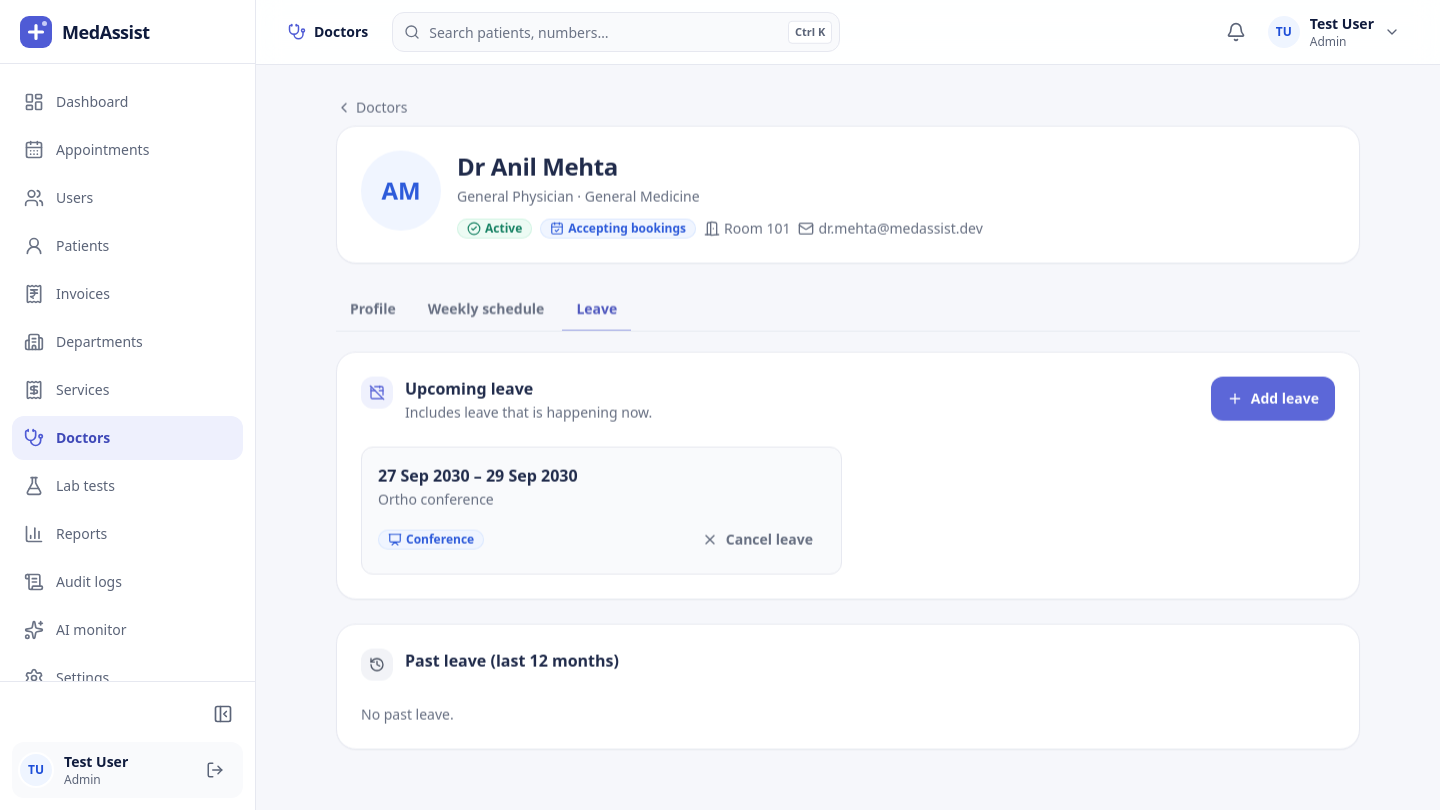
Test case: Doctor detail (admin) › leave tab lists upcoming leave and cancels with confirmation
Expected: the text "27 Sep 2030 – 29 Sep 2030" is shown, [378,464,578,486]
Expected: the text "Conference" is shown, [378,529,484,549]
Click the button with aria-label "Cancel leave 27 Sep 2030 – 29 Sep 2030": (757, 539) [690,521,825,557]
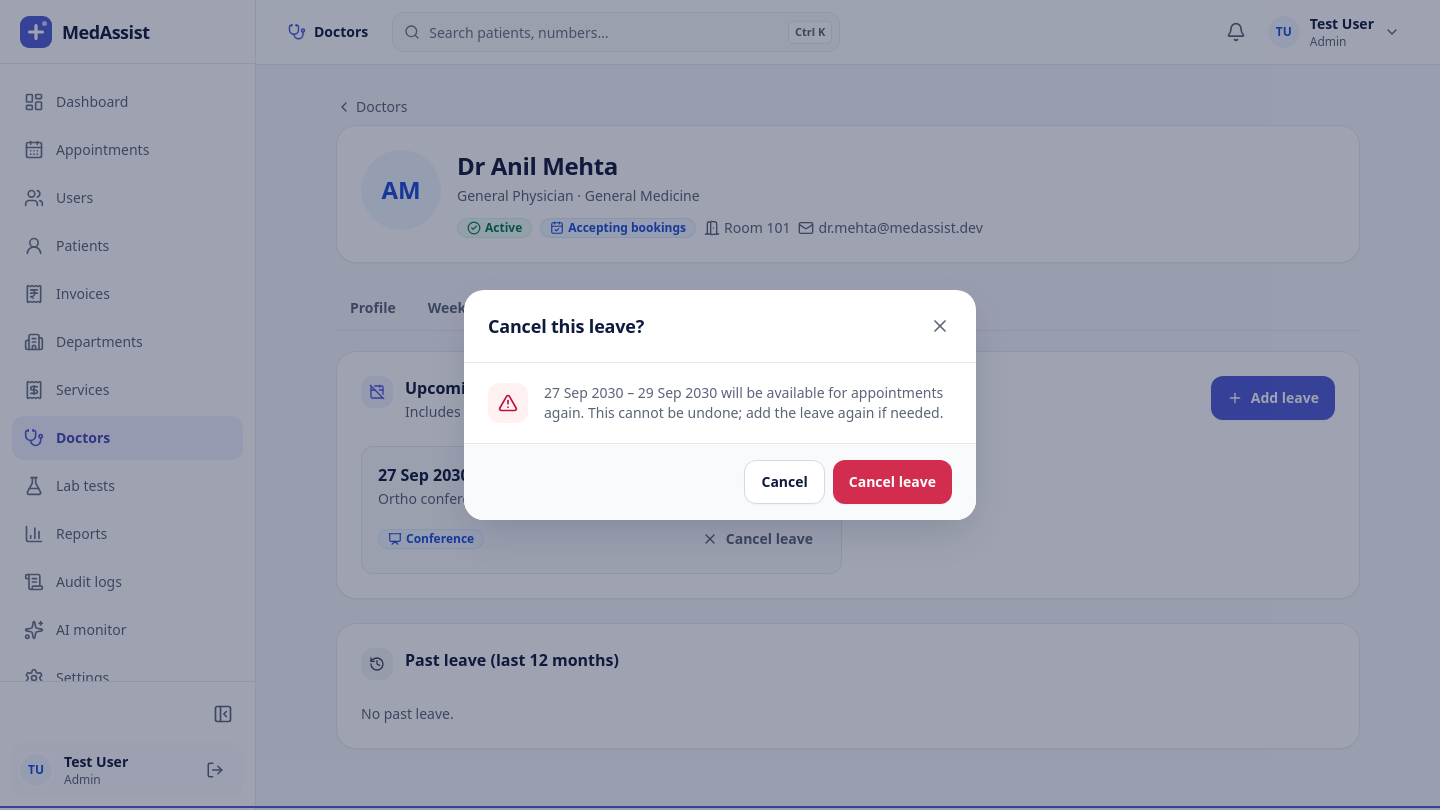
Click the button "Cancel leave": (892, 482) [833,460,952,504]
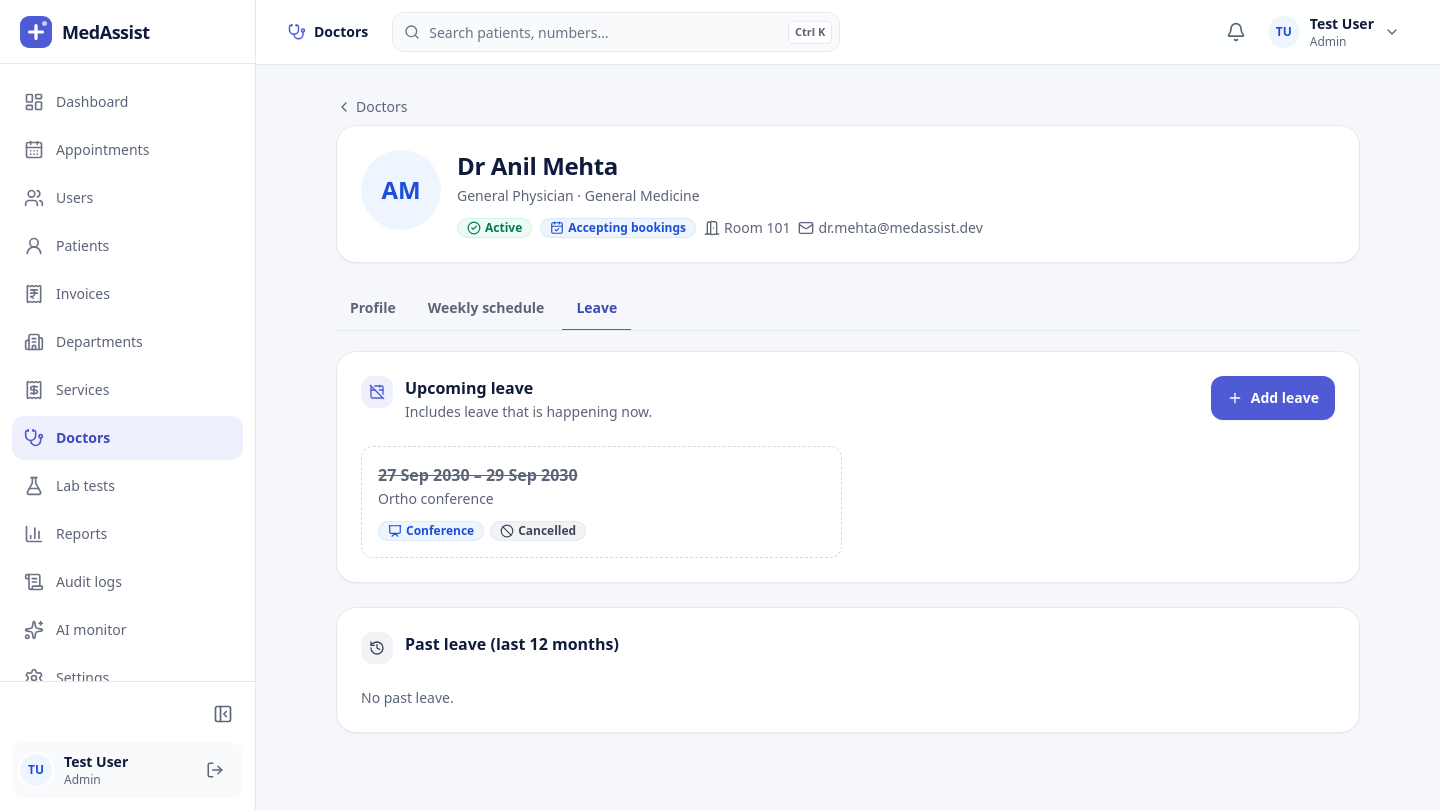
Now the text "Cancelled" is shown, box [490,521,586,541]
